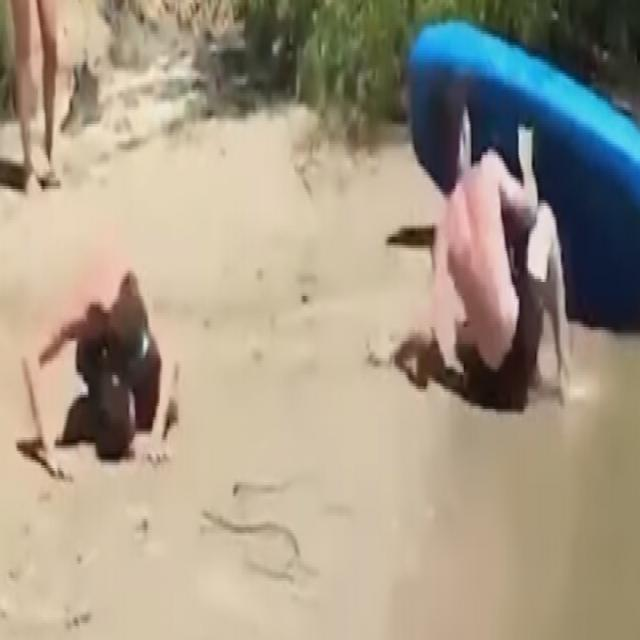fall: (426, 87, 572, 422), (21, 269, 176, 481)
